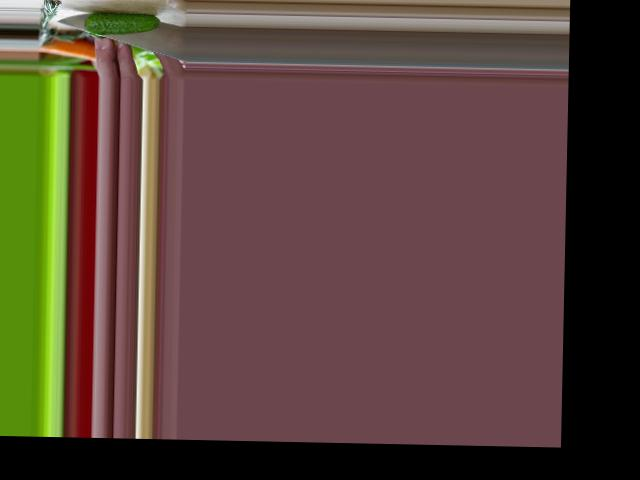cucumber: (83, 11, 159, 35)
